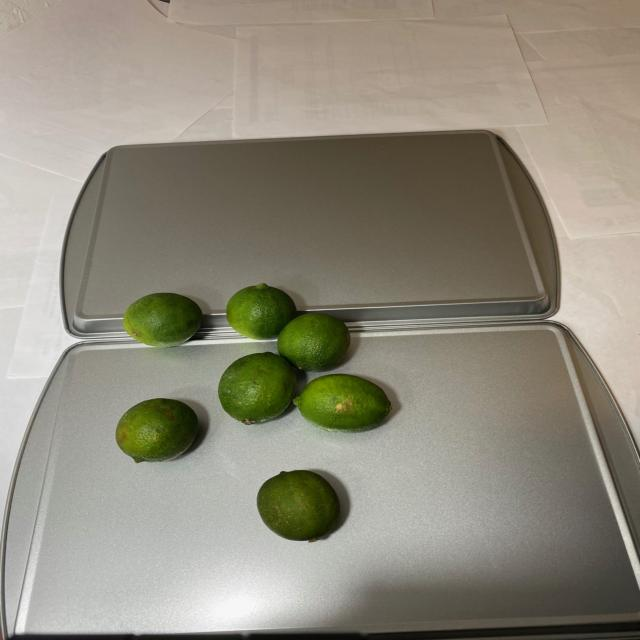lemon: (112, 282, 396, 550)
